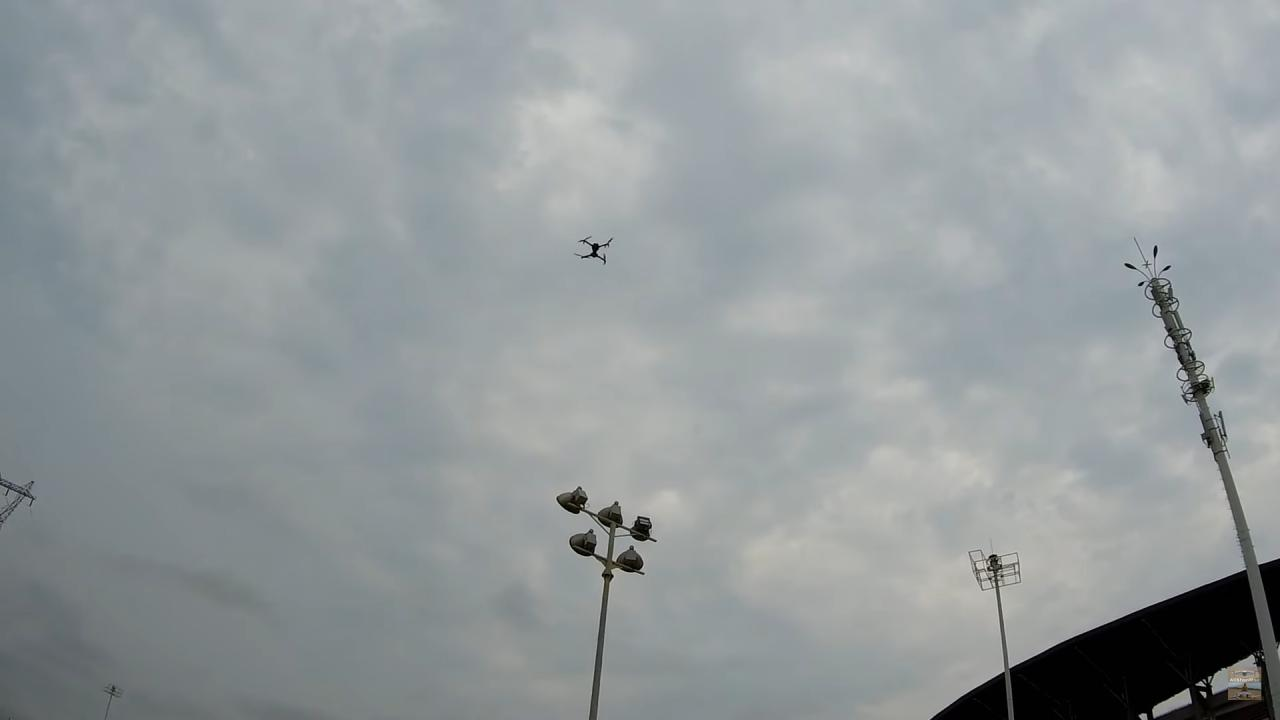Drone: (565, 229, 624, 273)
